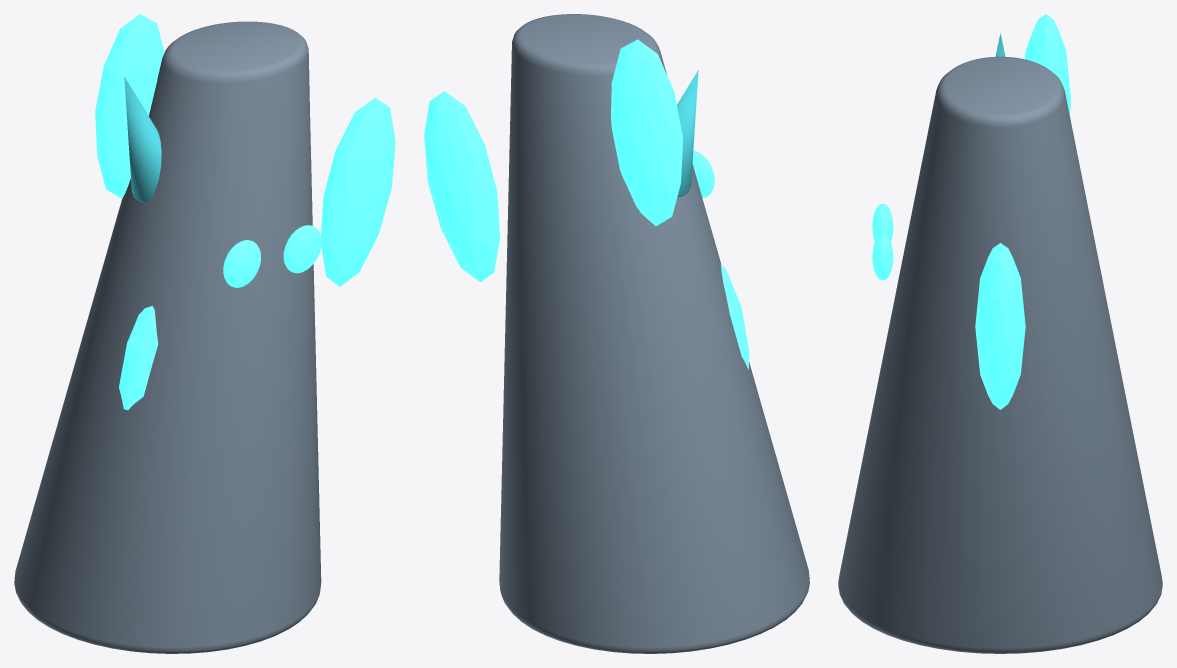
The model's file is wraith_v4.glb.
3 renders of one model, left to right at view 1: azimuth 30°, elevation 25°; view 2: azimuth 150°, elevation 25°; view 3: azimuth 270°, elevation 25°, orthographic. The views are drawn at different scales.
Parts seen in each view (by area): view 1: WRAITH_BODY_PRIMARY, ENERGY_SHARD_EMISSIVE, ENERGY_SHARD_EMISSIVE.001, CROWN_HORN_ACCENT, ENERGY_SHARD_EMISSIVE.002, EYE_EMISSIVE.001, EYE_EMISSIVE; view 2: WRAITH_BODY_PRIMARY, ENERGY_SHARD_EMISSIVE.001, ENERGY_SHARD_EMISSIVE, CROWN_HORN_ACCENT, ENERGY_SHARD_EMISSIVE.002, EYE_EMISSIVE; view 3: WRAITH_BODY_PRIMARY, ENERGY_SHARD_EMISSIVE, ENERGY_SHARD_EMISSIVE.001, EYE_EMISSIVE.001, EYE_EMISSIVE.
Boxes of the visible parts, box(x1,y1,x2,y2) form: WRAITH_BODY_PRIMARY: box(14, 21, 321, 653); ENERGY_SHARD_EMISSIVE: box(321, 98, 395, 286); ENERGY_SHARD_EMISSIVE.001: box(95, 14, 164, 198); CROWN_HORN_ACCENT: box(124, 77, 161, 202); ENERGY_SHARD_EMISSIVE.002: box(119, 305, 158, 410); EYE_EMISSIVE.001: box(283, 225, 321, 273); EYE_EMISSIVE: box(223, 240, 260, 287); WRAITH_BODY_PRIMARY: box(499, 14, 809, 653); ENERGY_SHARD_EMISSIVE.001: box(611, 39, 683, 226); ENERGY_SHARD_EMISSIVE: box(424, 91, 499, 282); CROWN_HORN_ACCENT: box(677, 70, 698, 196); ENERGY_SHARD_EMISSIVE.002: box(720, 265, 749, 369); EYE_EMISSIVE: box(692, 150, 714, 198); WRAITH_BODY_PRIMARY: box(838, 56, 1162, 653); ENERGY_SHARD_EMISSIVE: box(975, 243, 1025, 409); ENERGY_SHARD_EMISSIVE.001: box(1025, 14, 1070, 115); EYE_EMISSIVE.001: box(872, 234, 893, 280); EYE_EMISSIVE: box(872, 203, 893, 241).
Size of the model in its own units: 1.73 by 2.59 by 1.33.
